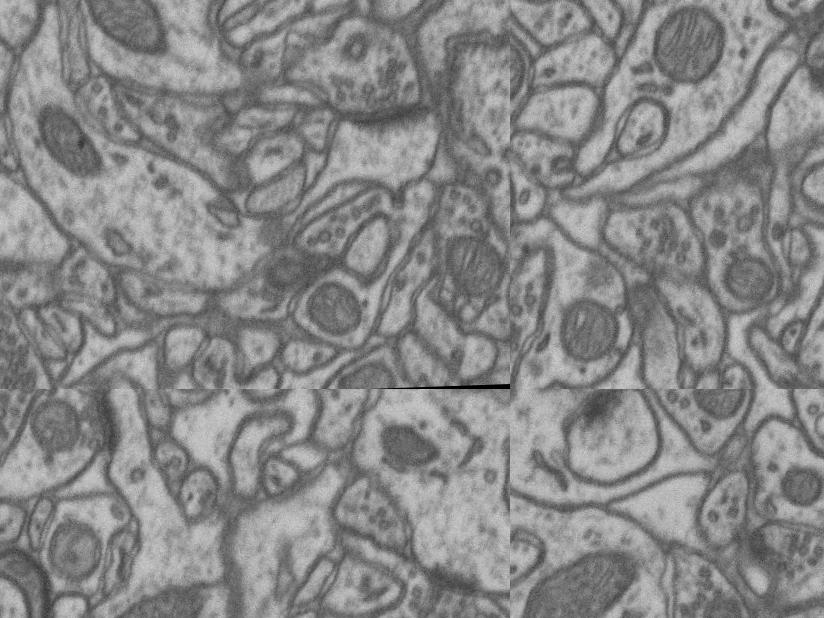mitochondria: (510, 539, 646, 618), (635, 0, 735, 93), (70, 0, 182, 75), (32, 505, 115, 596), (83, 565, 222, 618), (30, 97, 108, 190), (542, 278, 619, 372), (439, 228, 510, 304), (691, 240, 770, 308), (19, 389, 91, 457), (249, 243, 323, 302), (380, 418, 454, 476), (300, 278, 368, 340), (768, 461, 824, 514), (686, 389, 752, 433), (330, 353, 406, 389), (687, 589, 753, 618), (510, 39, 529, 119)
